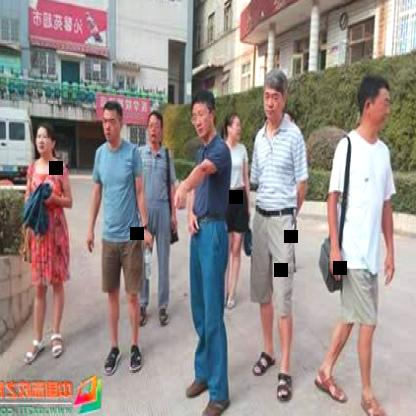head: (356, 72, 394, 136), (260, 66, 292, 124), (188, 88, 218, 142), (98, 98, 126, 146), (32, 119, 62, 159), (144, 107, 166, 149), (226, 112, 246, 146)
